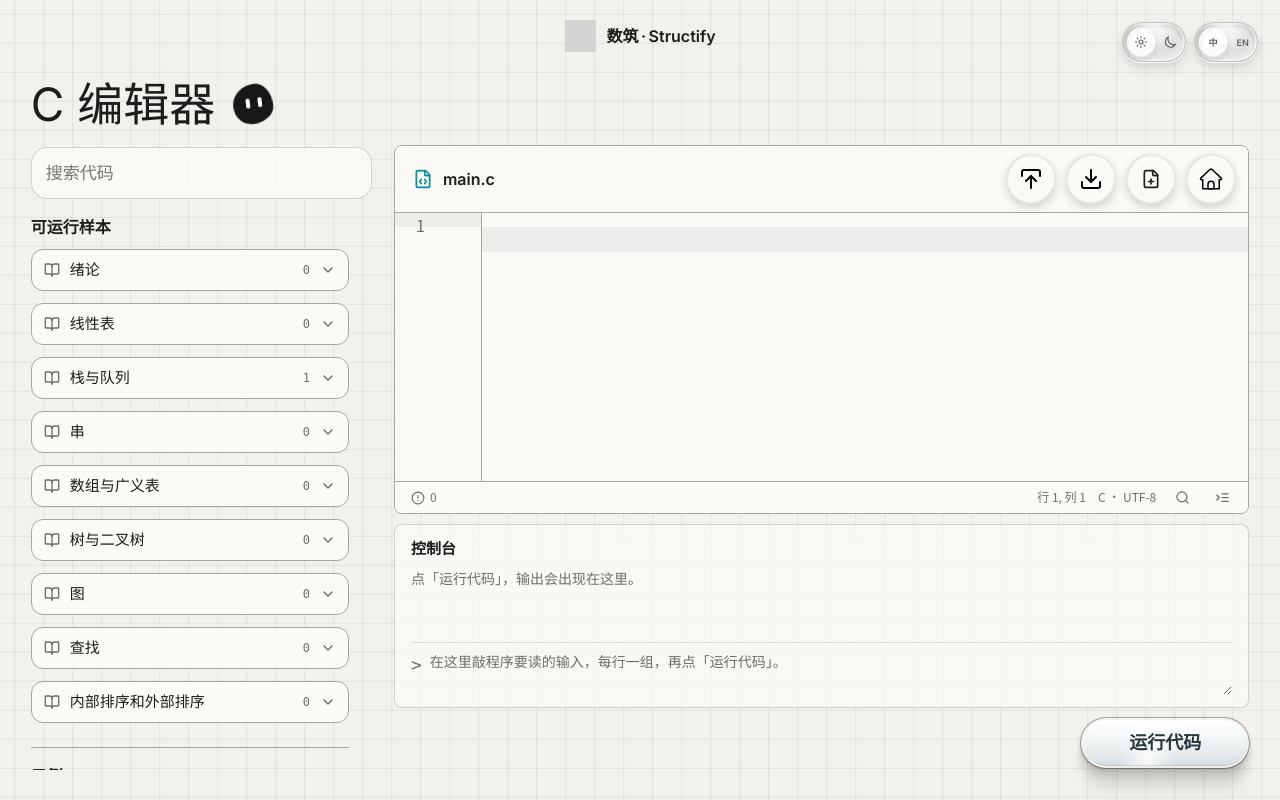
Test: code library page › opens a blank main.c and does not run an empty document
expect the text with class "library__document-title" reads "main.c": met, box [443,169,495,189]
expect the text box with class "console__input" is empty: met, box [430,651,1232,695]
Click the button named "运行代码" at (1165, 743), box [1081,718,1249,768]
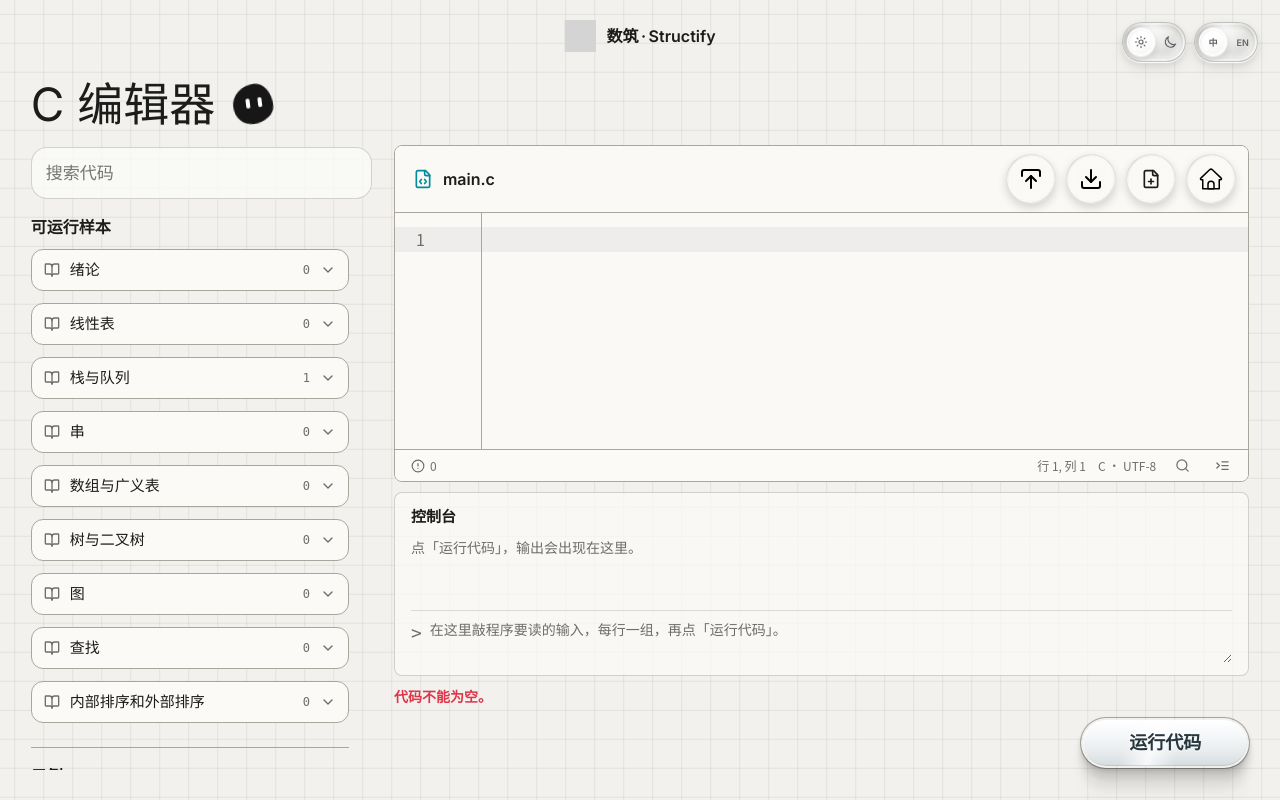
expect the message "代码不能为空。" is shown: met, box [394,688,492,705]
